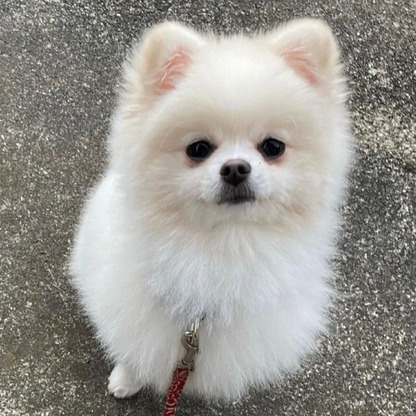Pomeranian: (94, 16, 358, 402)
